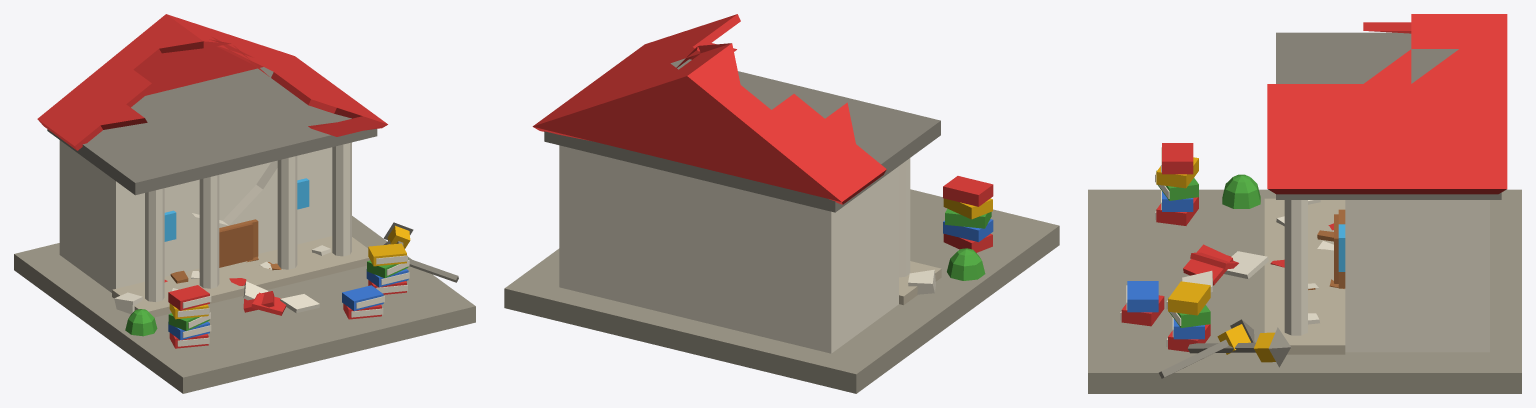
File: library_t2_v3_dmg1.glb
3 views of the same model, side by side, from view 1: azimuth 30°, elevation 25°; view 2: azimuth 150°, elevation 25°; view 3: azimuth 270°, elevation 25° (orthographic). The views are drawn at different scales.
Visible parts, largest first — view 1: library_t2_v3_dmg1; view 2: library_t2_v3_dmg1; view 3: library_t2_v3_dmg1.
Part boxes in pixels (box(x1,y1,x2,y2)): library_t2_v3_dmg1: box(14, 14, 475, 393); library_t2_v3_dmg1: box(504, 14, 1059, 393); library_t2_v3_dmg1: box(1088, 14, 1521, 393).
Bounding box in the file's own units: 0.7829 × 0.55 × 0.75.
Materials: 1 (1 with a texture image).
